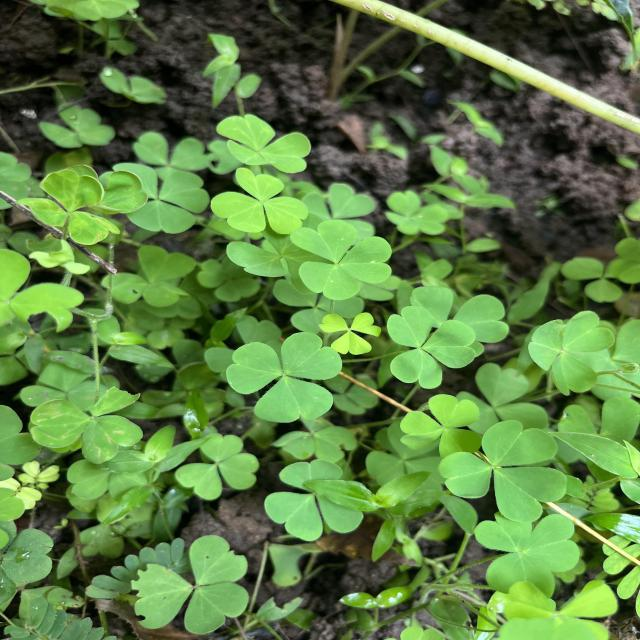Oxalis corniculata: (437, 420, 567, 522), (130, 534, 253, 636), (225, 331, 343, 424), (474, 512, 581, 600), (29, 386, 145, 462), (262, 458, 366, 542), (290, 218, 393, 302), (100, 161, 210, 235), (526, 310, 616, 396), (386, 305, 476, 390), (210, 167, 310, 236), (100, 245, 197, 308), (174, 432, 260, 502), (215, 113, 312, 174), (398, 394, 482, 456), (318, 312, 382, 356)
